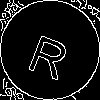R: (25, 25, 75, 81)
